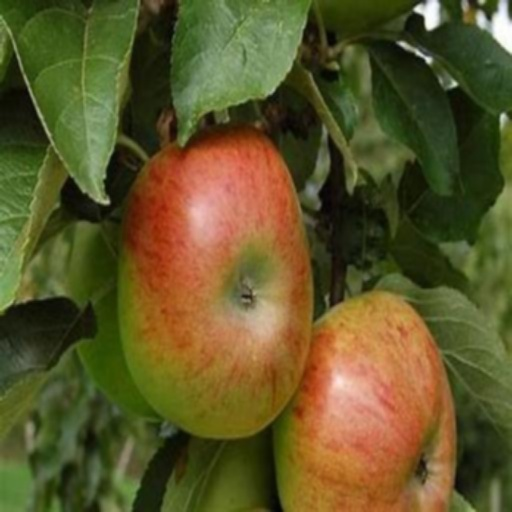fruit: (136, 238, 421, 512), (76, 254, 257, 512), (57, 156, 185, 512), (31, 145, 111, 448), (154, 0, 474, 4)
